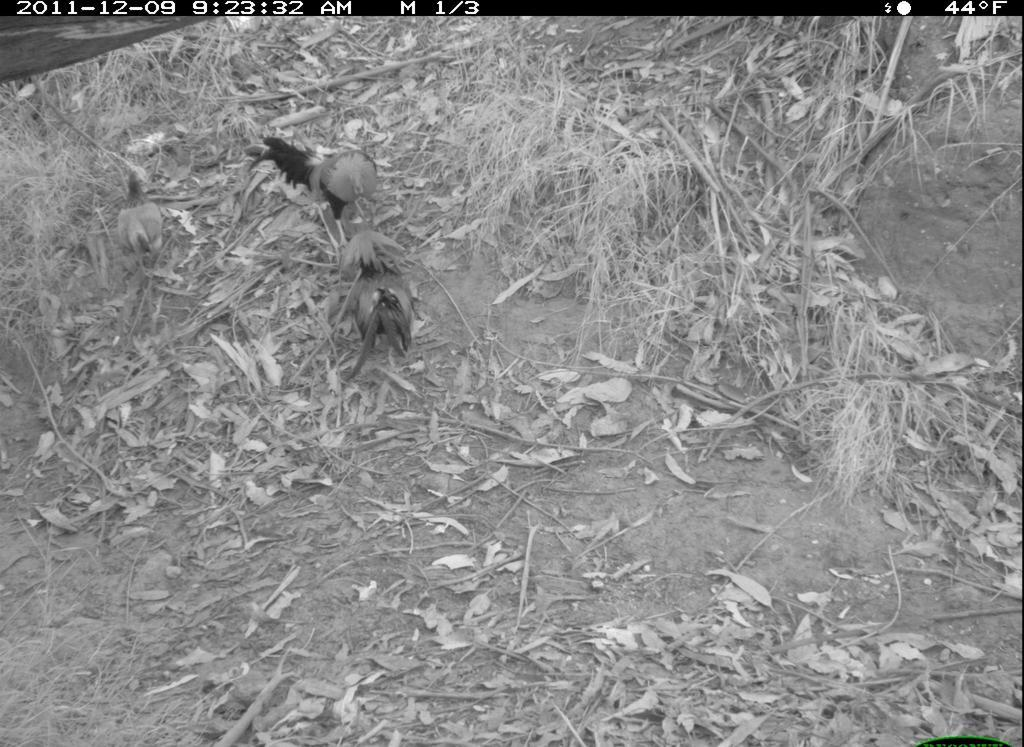bird: (333, 213, 425, 374), (255, 131, 387, 242), (111, 165, 172, 267)
